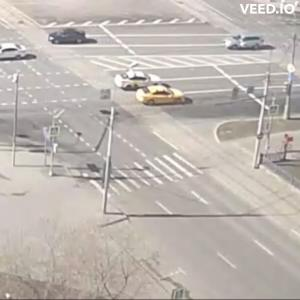car: (137, 85, 188, 107), (227, 35, 275, 52), (49, 31, 97, 47), (116, 72, 152, 92), (1, 44, 28, 62)
